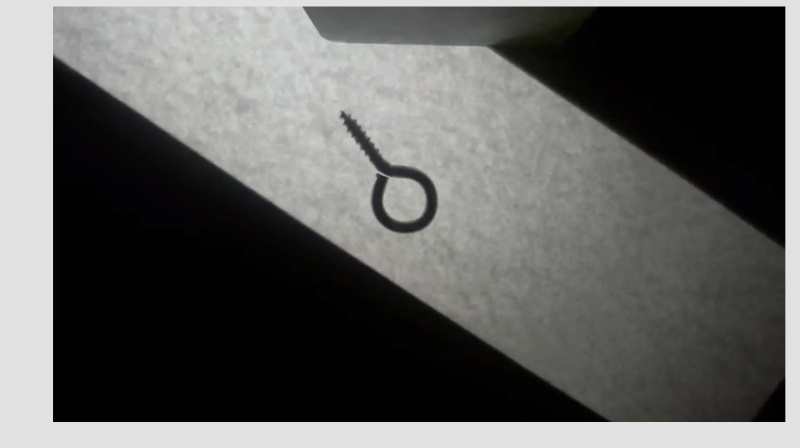O001: (337, 107, 441, 235)
